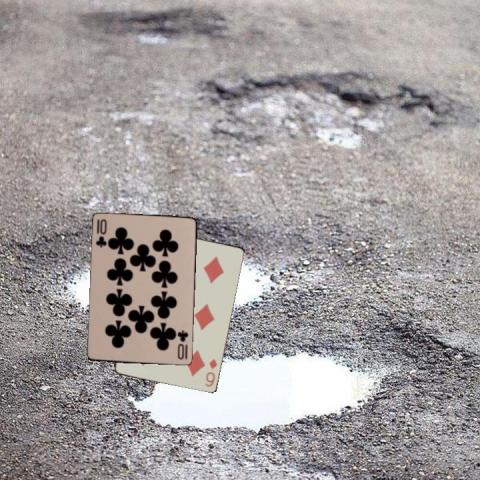10c: (93, 216, 108, 249), (175, 328, 189, 361)
6d: (202, 355, 219, 388)
